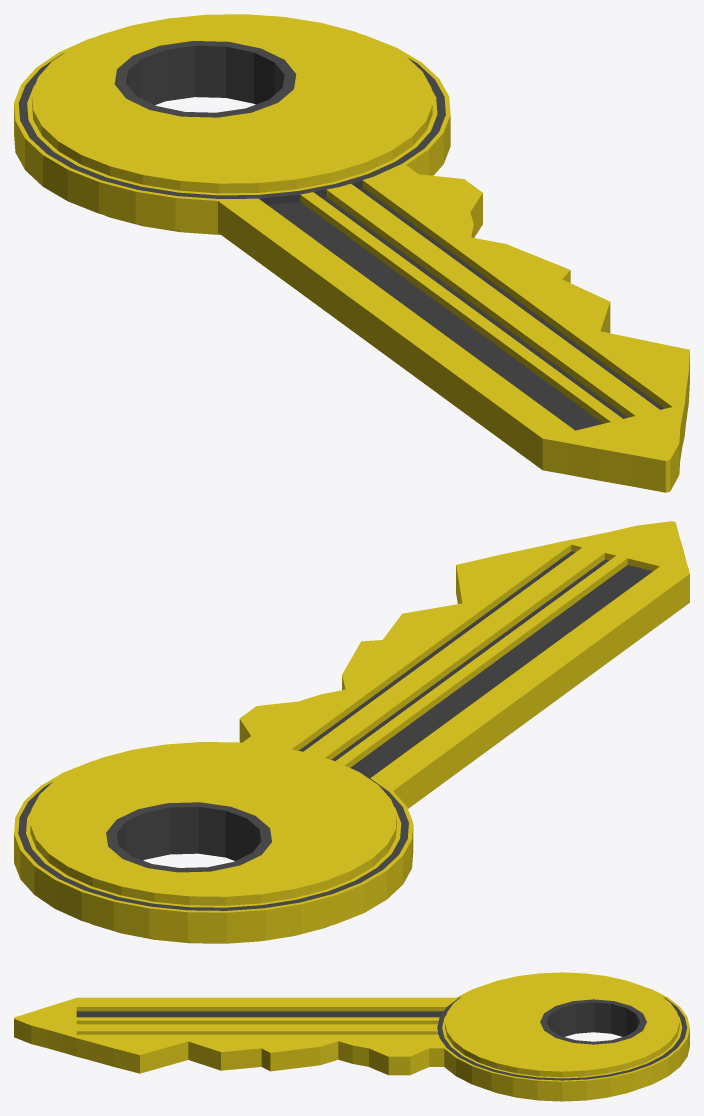
Rendered from house_key_gold.glb.
The picture shows the model from 3 angles, top to bottom: view 1: azimuth 30°, elevation 25°; view 2: azimuth 150°, elevation 25°; view 3: azimuth 270°, elevation 25°; orthographic projection. The views are drawn at different scales.
Parts seen in each view (by area): view 1: Circle; view 2: Circle; view 3: Circle.
Boxes of the visible parts, bbox=[...] form: Circle: bbox=[14, 14, 689, 492]; Circle: bbox=[14, 521, 689, 943]; Circle: bbox=[14, 972, 689, 1101].
Size of the model in its own units: 0.025 by 0.00323 by 0.0661.
